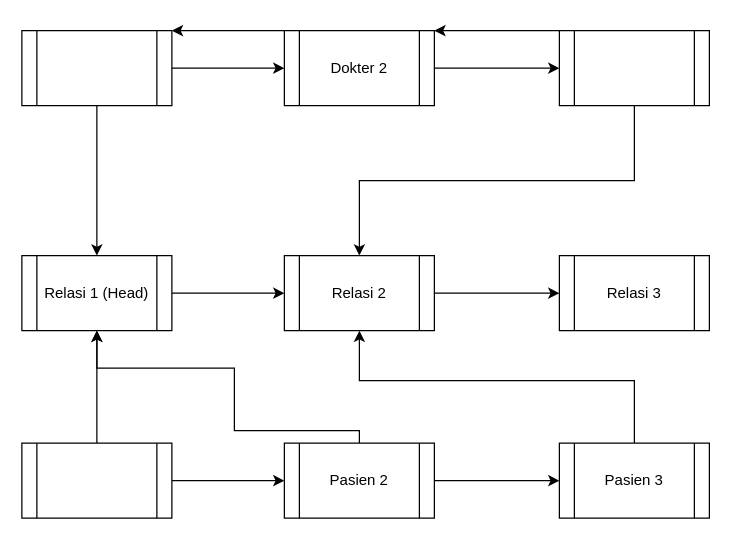
The diagram is 731 pixels wide and 540 high, and some of its shapes have lost their labels. Here are the shapes that lost their labels. From the top down, the centre of each, then its label:
(x=96, y=67): Dokter 1 (Head)
(x=633, y=67): Dokter 3
(x=96, y=480): Pasien 1 (Head)
